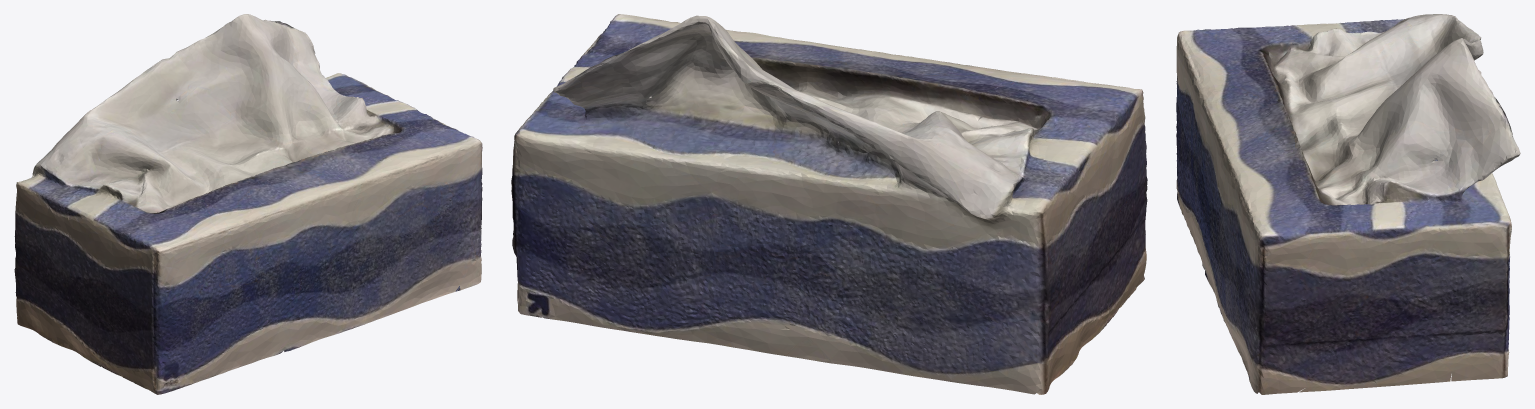
Rendered from Tissues good-2048.glb.
The picture shows the model from 3 angles, left to right: view 1: azimuth 30°, elevation 25°; view 2: azimuth 150°, elevation 25°; view 3: azimuth 270°, elevation 25°; orthographic projection. The views are drawn at different scales.
Size of the model in its own units: 0.2454 by 0.1403 by 0.1612.
Materials: 1 (1 with a texture image).
